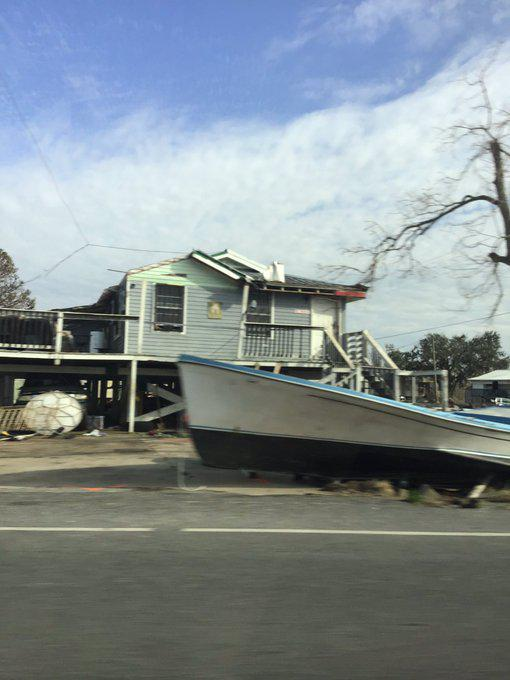minor: (0, 237, 475, 450)
